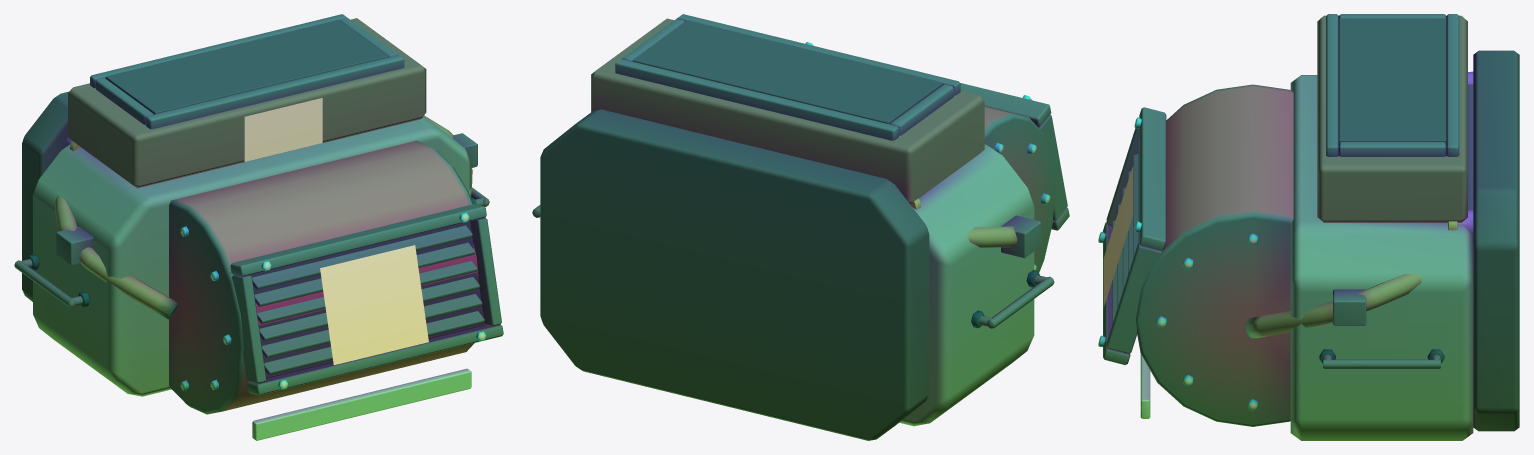
File: gen_agt1500_turbine.glb
3 renders of one model, left to right at view 1: azimuth 30°, elevation 25°; view 2: azimuth 150°, elevation 25°; view 3: azimuth 270°, elevation 25°, orthographic. The views are drawn at different scales.
Visible parts, largest first — view 1: Body__gunmetal, Body__armor, Body__dark, Body__armor_oxide, Body__decal, Body__hazard, Body__copper, Body__chrome; view 2: Body__dark, Body__armor, Body__armor_oxide, Body__gunmetal, Body__copper; view 3: Body__gunmetal, Body__armor, Body__dark, Body__armor_oxide, Body__copper, Body__decal, Body__chrome, Body__hazard.
Part boxes in pixels (<box>): Body__gunmetal: <box>14,14,503,414</box>; Body__armor: <box>33,116,471,396</box>; Body__dark: <box>22,19,484,378</box>; Body__armor_oxide: <box>68,18,426,188</box>; Body__decal: <box>244,98,428,365</box>; Body__hazard: <box>252,368,471,440</box>; Body__copper: <box>55,115,472,319</box>; Body__chrome: <box>65,137,486,390</box>; Body__dark: <box>540,20,1039,440</box>; Body__armor: <box>899,144,1034,426</box>; Body__armor_oxide: <box>591,18,984,204</box>; Body__gunmetal: <box>532,14,1069,328</box>; Body__copper: <box>967,226,1017,247</box>; Body__gunmetal: <box>1103,14,1473,426</box>; Body__armor: <box>1290,75,1473,440</box>; Body__dark: <box>1319,18,1519,431</box>; Body__armor_oxide: <box>1317,15,1467,222</box>; Body__copper: <box>1245,274,1421,338</box>; Body__decal: <box>1103,165,1133,307</box>; Body__chrome: <box>1098,71,1473,410</box>; Body__hazard: <box>1140,353,1150,418</box>.
Bounding box in the file's own units: 0.974 × 0.5826 × 0.7835.
